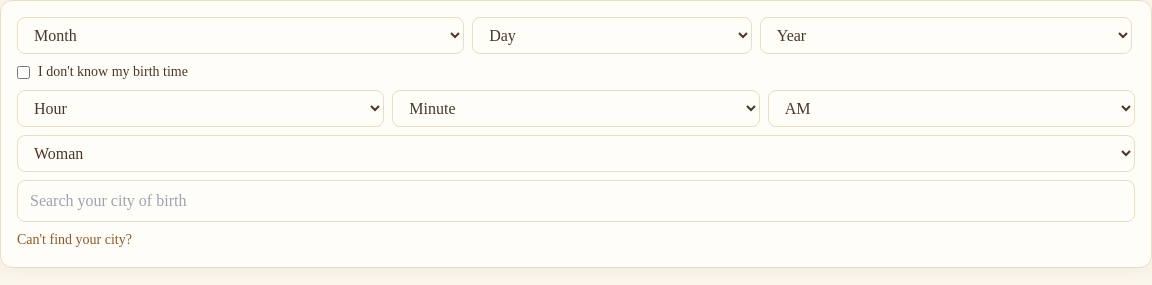
SingleBirthForm › hides the hour/minute fields when "I don't know my birth time" is checked
The image size is (1152, 285).
Check: the dropdown named "Hour" is shown, box [17,90,384,127]
Click the checkbox labelled "I don't know my birth time": (24, 72) [17,66,30,78]
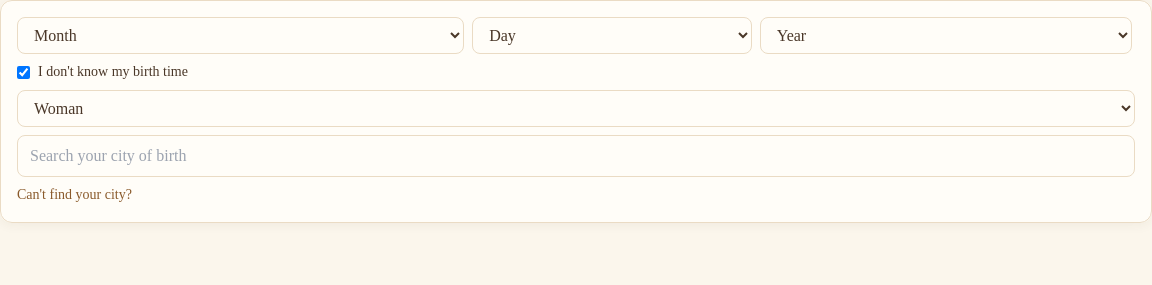
Check: the dropdown labelled "Hour" is gone
